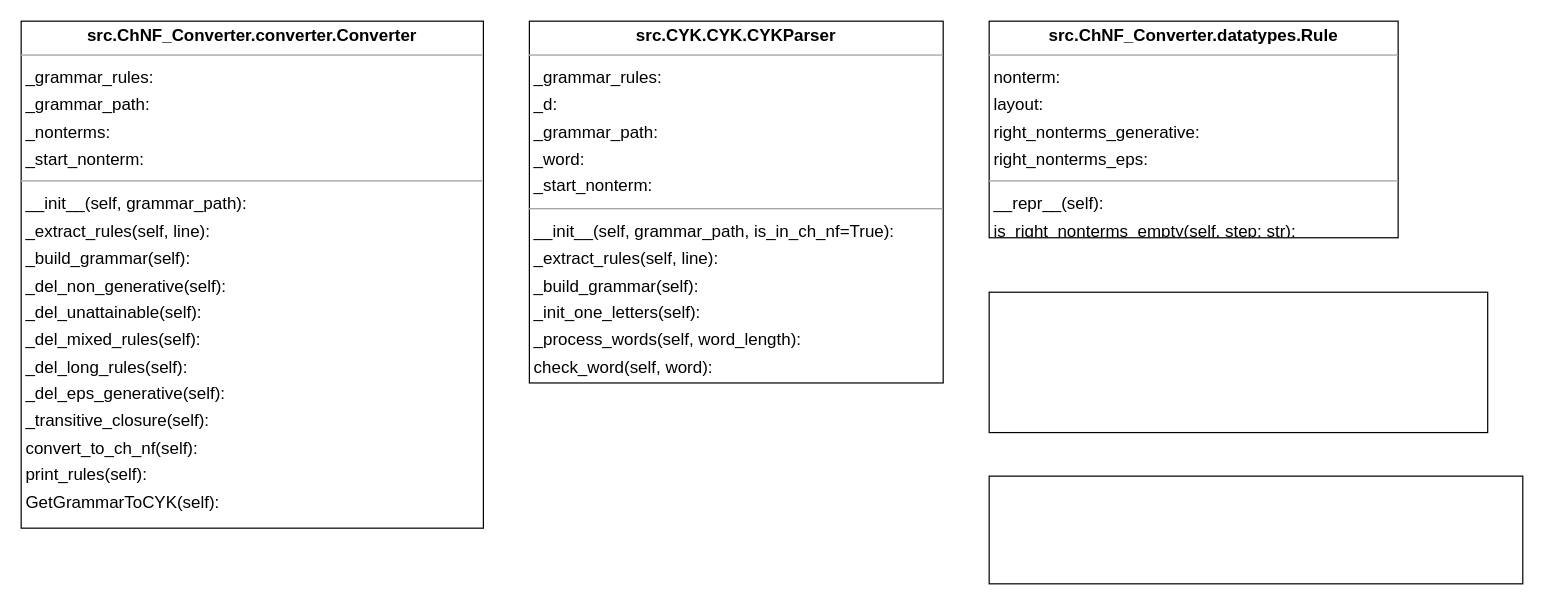
The diagram is 1544 pixels wide and 605 high, and some of its shapes have lost their labels. The centre of each missing label's shape, as x and y in pixels:
src.ChNF_Converter.datatypes.CYKGrammarAPI grammar_rules: start_nonterm:: [1255,529]
src.ChNF_Converter.datatypes.ReducedRule nonterm: layout: __repr__(self):: [1238,362]
